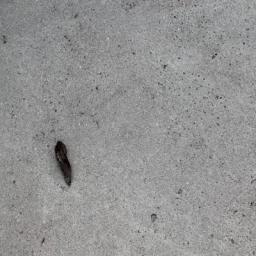FOD: (54, 137, 81, 189)
